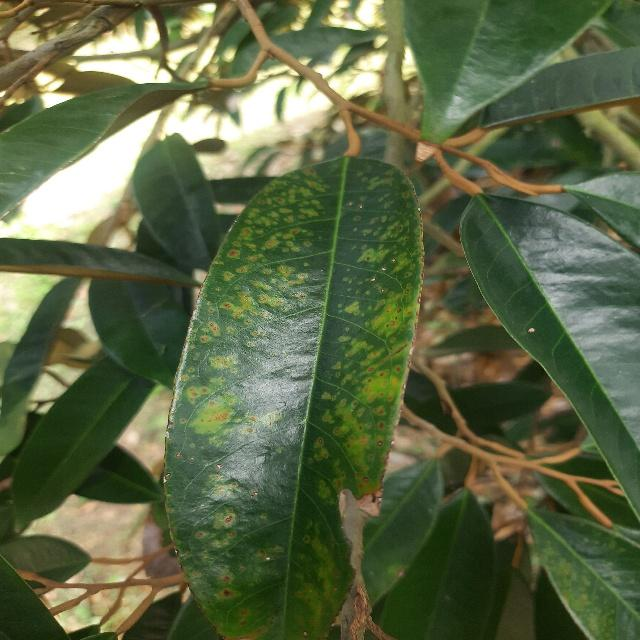Leaf Spot: (149, 143, 434, 640)
